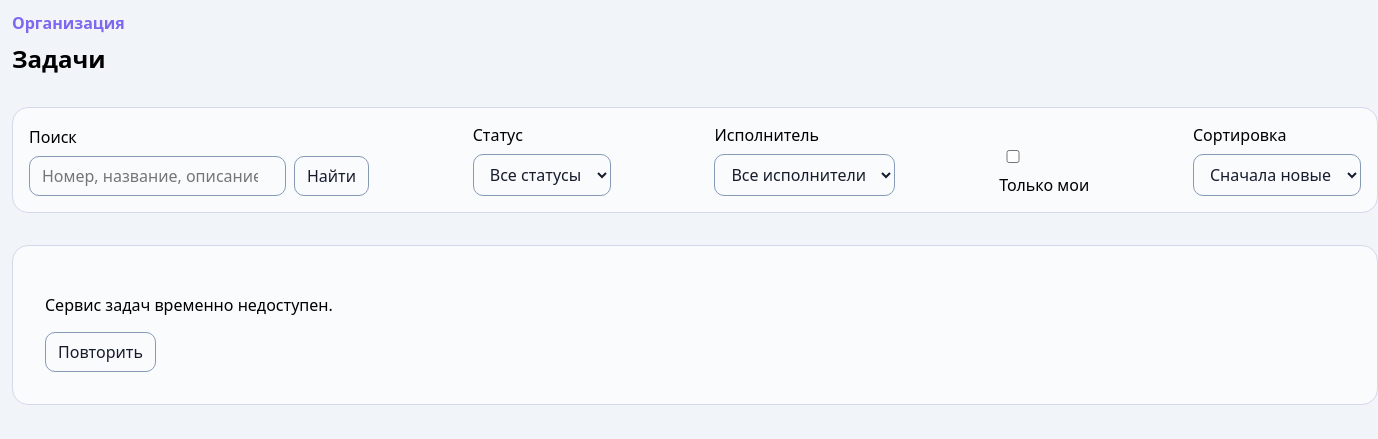
Test: Tasks list › shows empty and failure states with retry
Expected: the message "Сервис задач временно недоступен. Повторить" is shown, 12,245 -> 1377,405
What coordinates should you click on to do the following:
click the button "Повторить"
I would click on:
 (100, 352)
Its box is 45,332 -> 156,372.
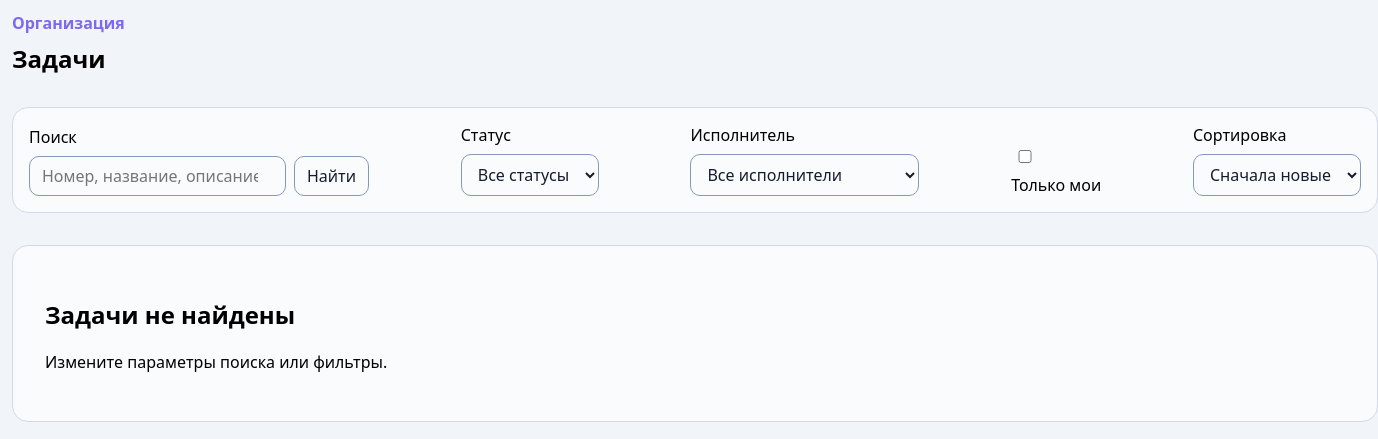
Expected: the heading "Задачи не найдены" is shown, 45,298 -> 295,331
